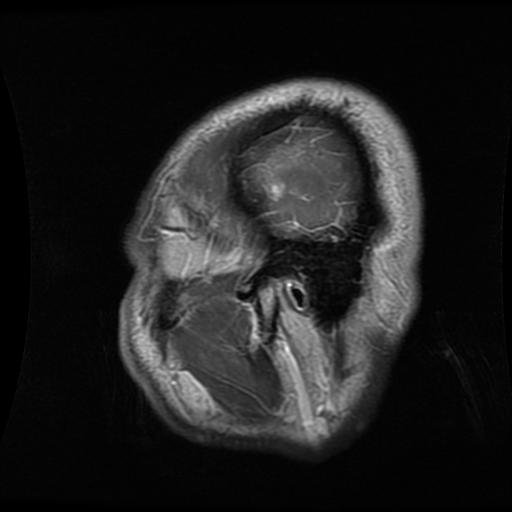Gliomia_tumour: (265, 181, 286, 203)
